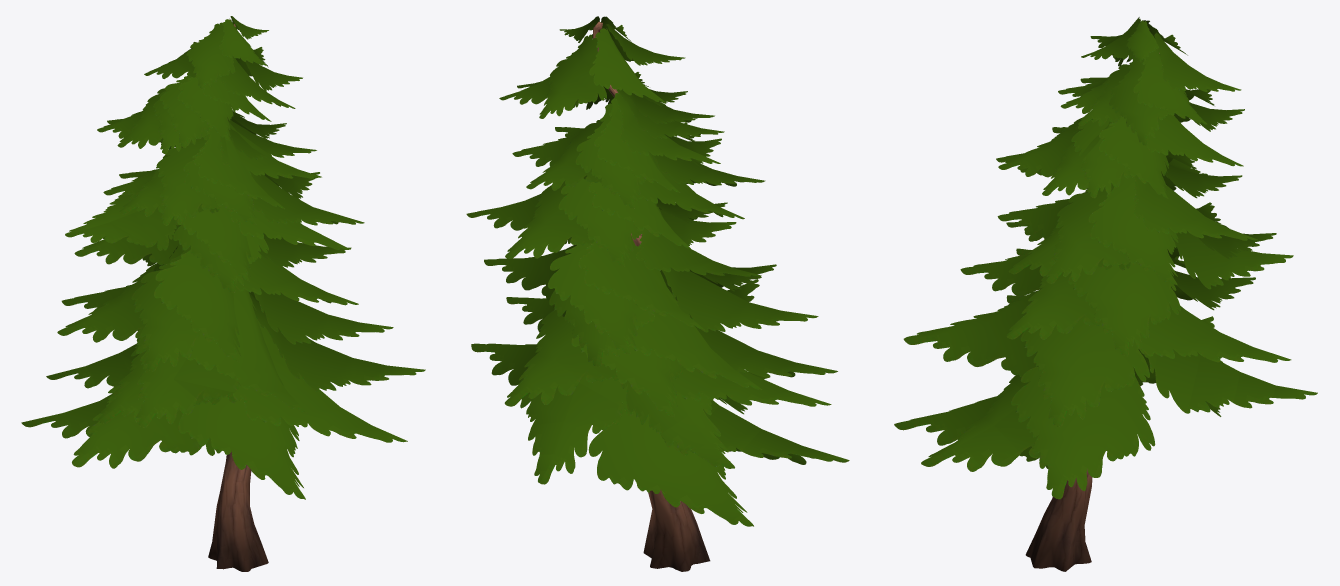
The model's file is Pine_5.glb.
3 renders of one model, left to right at view 1: azimuth 30°, elevation 25°; view 2: azimuth 150°, elevation 25°; view 3: azimuth 270°, elevation 25°, orthographic. The views are drawn at different scales.
Visible parts, largest first — view 1: Pine_5; view 2: Pine_5; view 3: Pine_5.
Part boxes in pixels (box(x1,y1,x2,y2)): Pine_5: box(21, 16, 425, 571); Pine_5: box(466, 16, 849, 571); Pine_5: box(894, 17, 1317, 571).
Bounding box in the file's own units: 6.42 × 8.72 × 6.22.
Materials: 2 (2 with a texture image).
